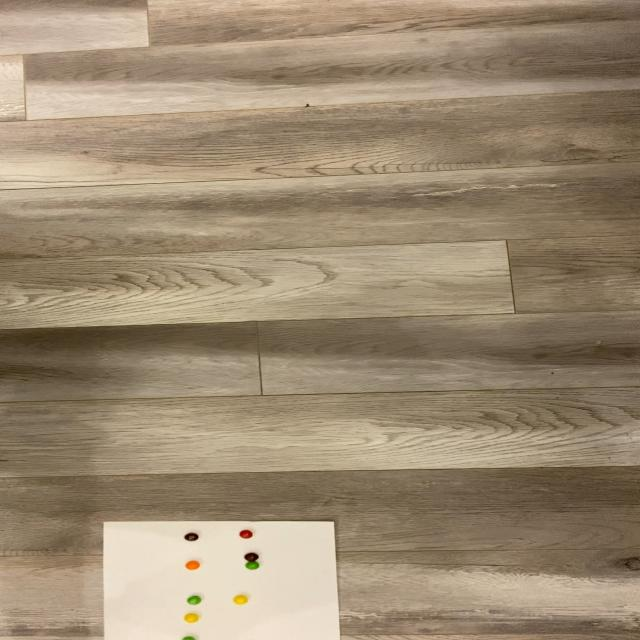smartie: (233, 595, 249, 605), (183, 614, 199, 624), (186, 561, 200, 571), (185, 533, 199, 542), (244, 553, 258, 562), (246, 561, 260, 570), (239, 530, 253, 539), (187, 596, 201, 605)
